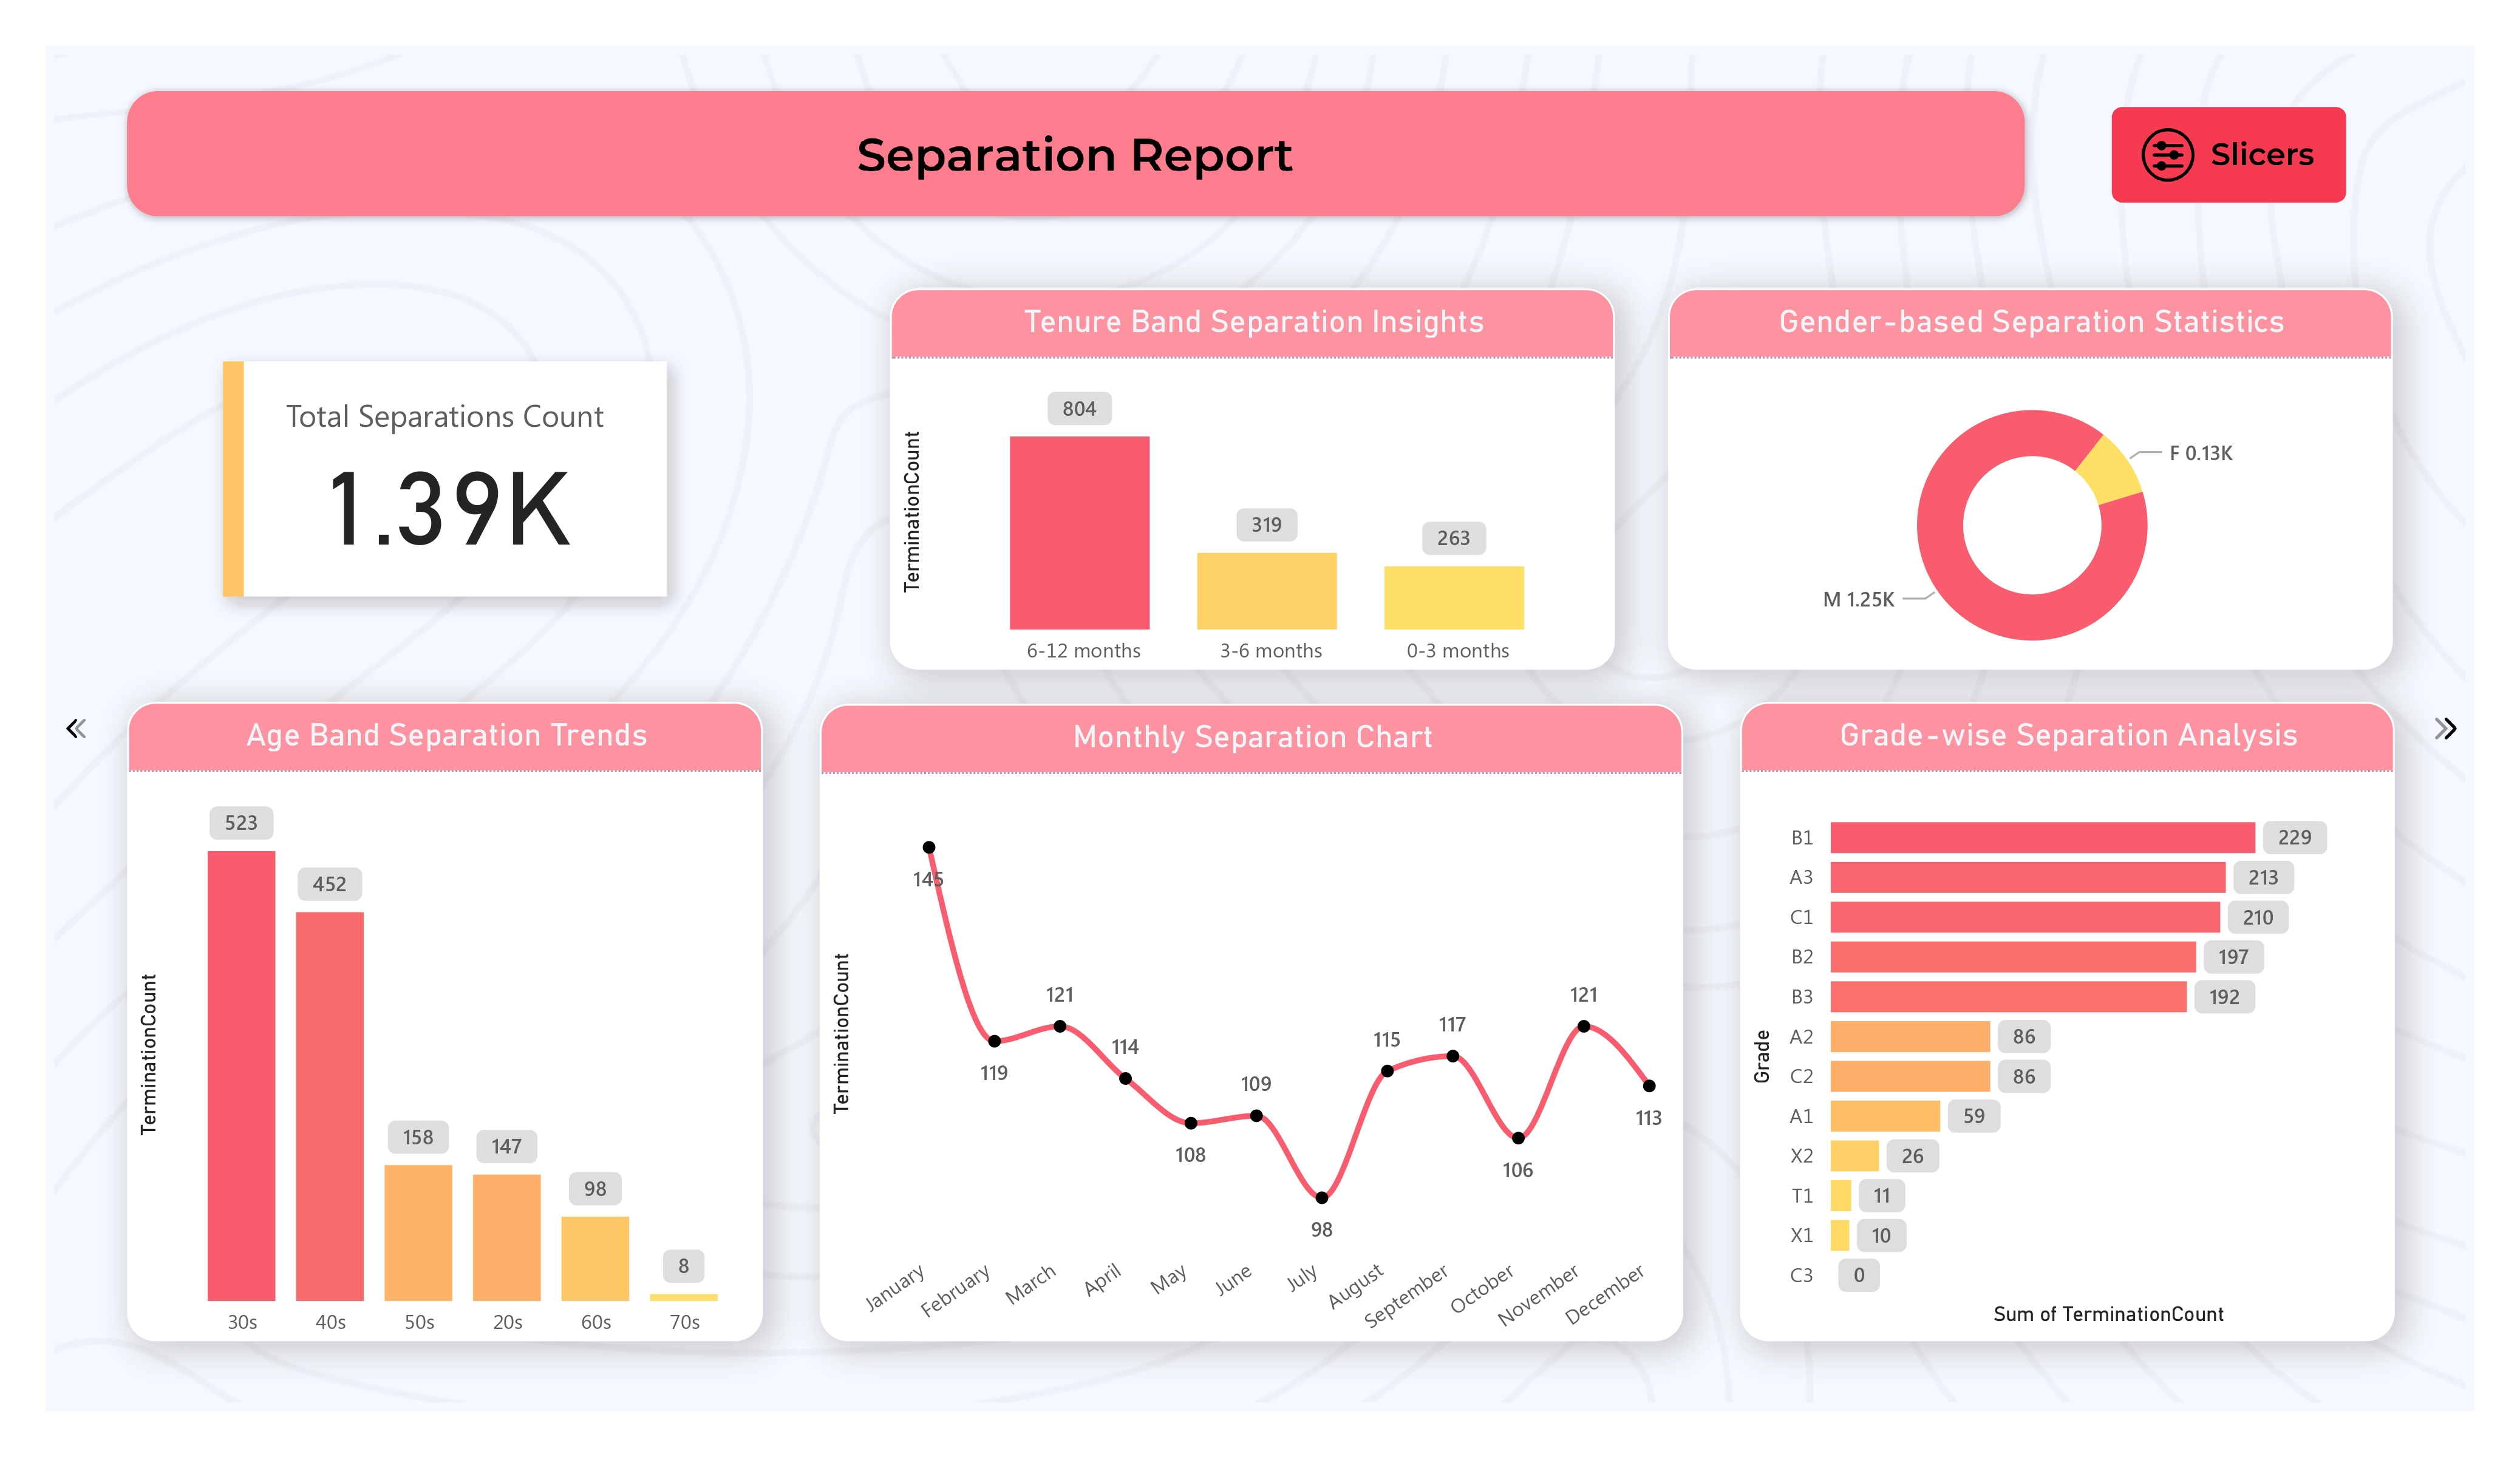

The page's visual inventory and layout, read from the dashboard file:
{"tool":"powerbi","page":{"name":"Separation Report","canvas":[1280,720],"ordinal":2},"visuals":[{"type":"image","box":[0,0,1280,720],"z":0},{"type":"shape","box":[37.5,18.8,1010,76.2],"z":1000},{"type":"lineChart","title":"Monthly Separation Chart","fields":{"Category":["Hiretermination.Termination Date.Variation.Date Hierarchy.Month"],"Y":["Sum(Hiretermination.TerminationCount)"]},"box":[408.3,346.7,454.2,335.8],"z":2000},{"type":"donutChart","title":"Gender-based Separation Statistics","fields":{"Category":["Hiretermination.Gender"],"Y":["Sum(Hiretermination.TerminationCount)"]},"box":[855.4,127.5,381.2,201.2],"z":3000},{"type":"clusteredColumnChart","title":"Age Band Separation Trends","fields":{"Y":["Sum(Hiretermination.TerminationCount)"],"Category":["Hiretermination.Age group"]},"box":[42.5,346.2,335,336.2],"z":4000},{"type":"clusteredColumnChart","title":"Tenure Band Separation Insights","fields":{"Y":["Sum(Hiretermination.TerminationCount)"],"Category":["Hiretermination.Tenure Band"]},"box":[445.5,127.8,381,201.3],"z":5000},{"type":"barChart","title":"Grade-wise Separation Analysis","fields":{"Category":["Hiretermination.Grade"],"Y":["Sum(Hiretermination.TerminationCount)"]},"box":[892.5,346.2,345,336.2],"z":6000},{"type":"cardVisual","fields":{"Data":["Sum(Hiretermination.TerminationCount)"]},"box":[74.6,148.1,271.4,160.6],"z":7000},{"type":"image","box":[392.3,35.1,300.8,45.2],"z":8000},{"type":"image","title":"slicer button","box":[1071.9,19.2,157.6,77],"z":17000},{"type":"image","title":"page nav 2","box":[1250,338.9,30,41.1],"z":19000},{"type":"image","title":"page nav 1","box":[0,345.6,31.1,28.9],"z":20000}]}

Visuals, with their boxes in screenshot pixels (x1, y1, x2, y2):
image: <box>46,46,2474,1411</box>
shape: <box>117,81,2033,226</box>
"Monthly Separation Chart" lineChart: <box>820,703,1682,1340</box>
"Gender-based Separation Statistics" donutChart: <box>1669,287,2392,669</box>
"Age Band Separation Trends" clusteredColumnChart: <box>126,702,762,1340</box>
"Tenure Band Separation Insights" clusteredColumnChart: <box>891,288,1614,670</box>
"Grade-wise Separation Analysis" barChart: <box>1739,702,2394,1340</box>
cardVisual - Sum(Hiretermination.TerminationCount): <box>187,327,702,631</box>
image: <box>790,112,1361,198</box>
"slicer button" image: <box>2080,82,2379,228</box>
"page nav 2" image: <box>2417,688,2474,766</box>
"page nav 1" image: <box>46,701,104,756</box>
